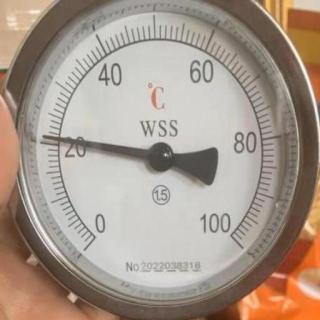gauge: (0, 0, 320, 320), (214, 219, 252, 257), (74, 220, 110, 258), (145, 141, 175, 175), (37, 129, 55, 145)
